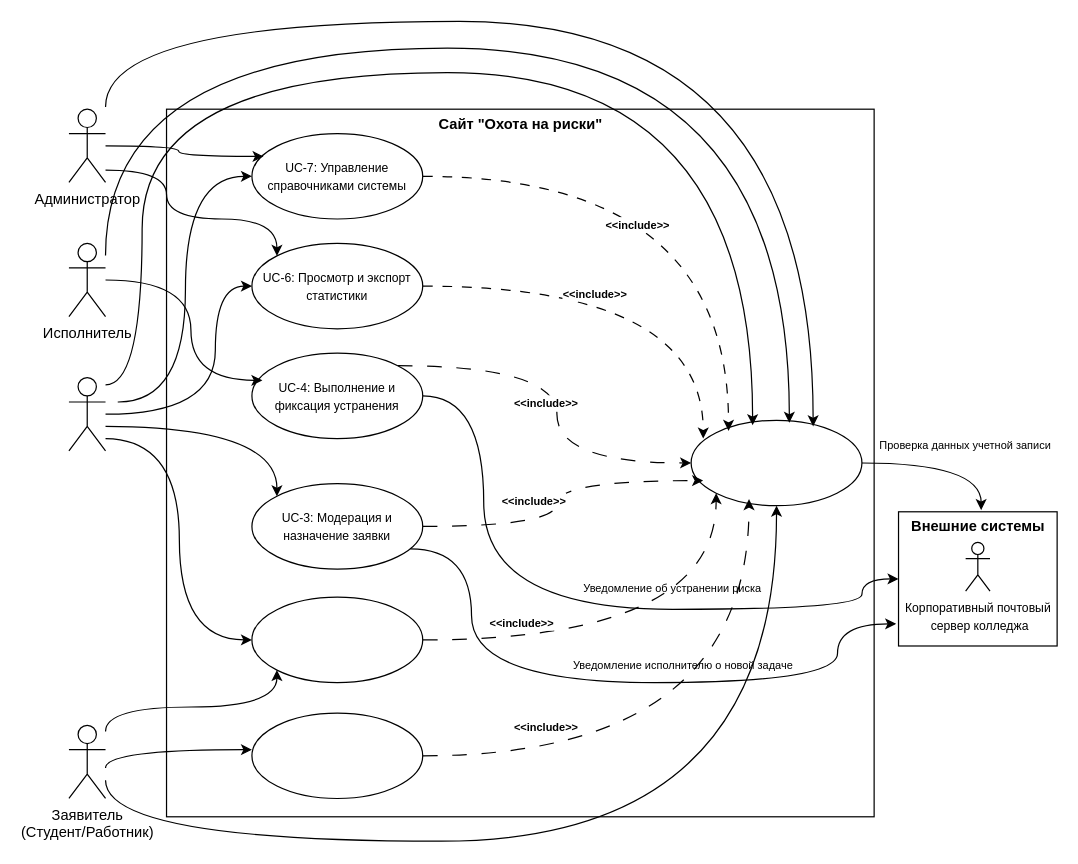
This 1078x864 diagram has some shape labels left out. Each missing label, with the centre of its shape:
UC-1: Авторизация в системе: point (776, 462)
UC-2: Создание сообщения об опасности: point (337, 755)
UC-5: Обжалование закрытия риска: point (337, 639)
Специалист по охране труда: point (87, 413)
